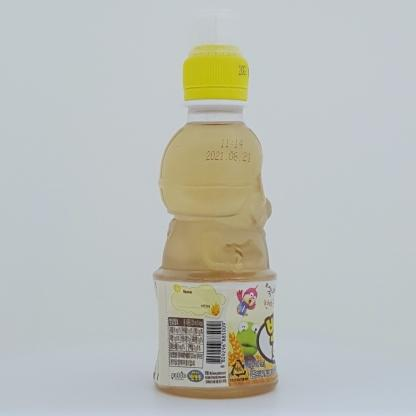--------220ML: (152, 9, 279, 399)
